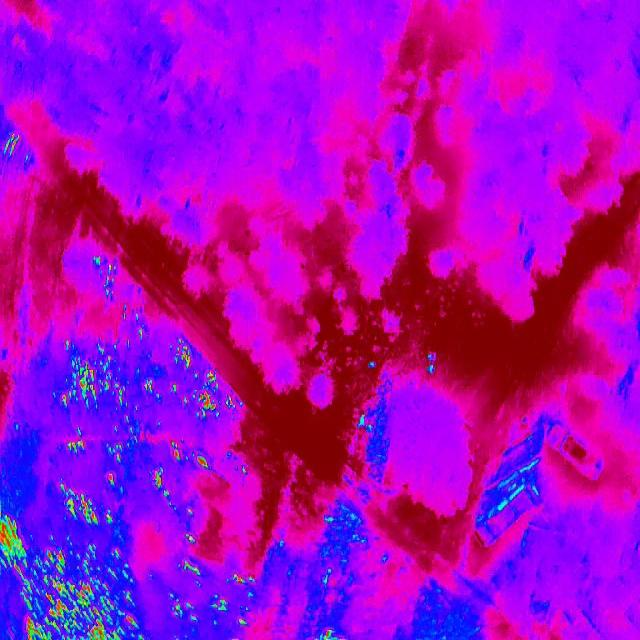fire: (0, 511, 149, 640), (56, 338, 248, 429), (168, 558, 258, 632), (152, 440, 210, 489), (56, 482, 114, 526), (103, 438, 122, 468), (68, 437, 86, 453)
